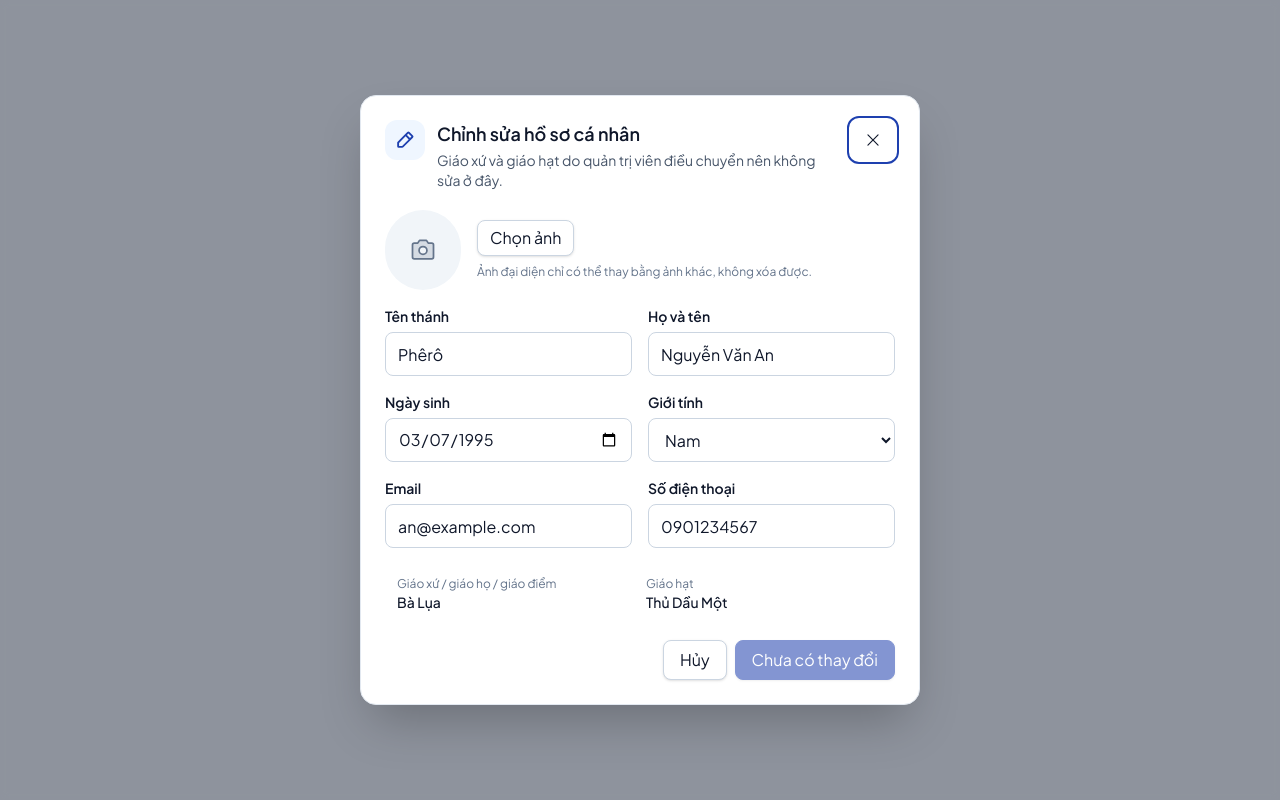
Test case: EditProfileDialog › shows the server message when the phone is already used
Replace the text in the field labelled "Số điện thoại" with "0907654321" at (772, 526), box [648,504,895,548]
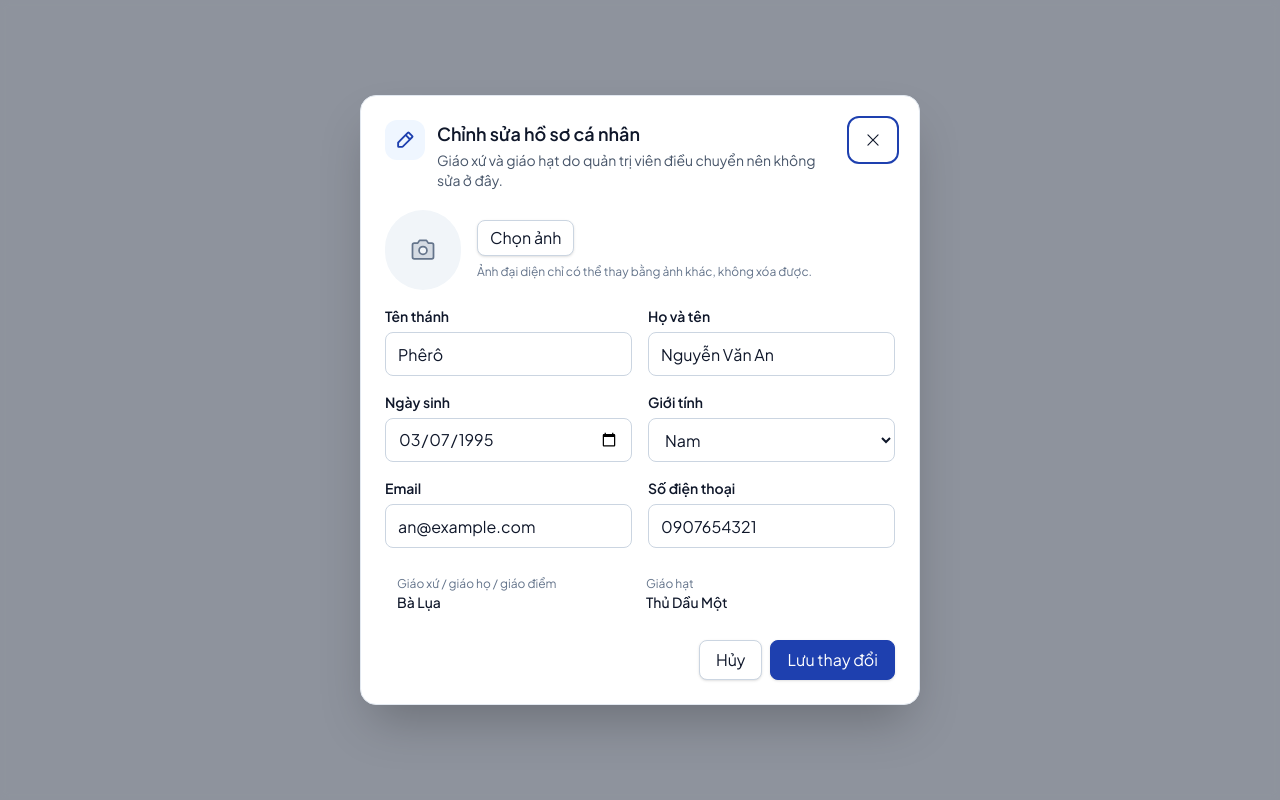
Click the button "Lưu thay đổi" at (833, 660), box [770,640,895,680]
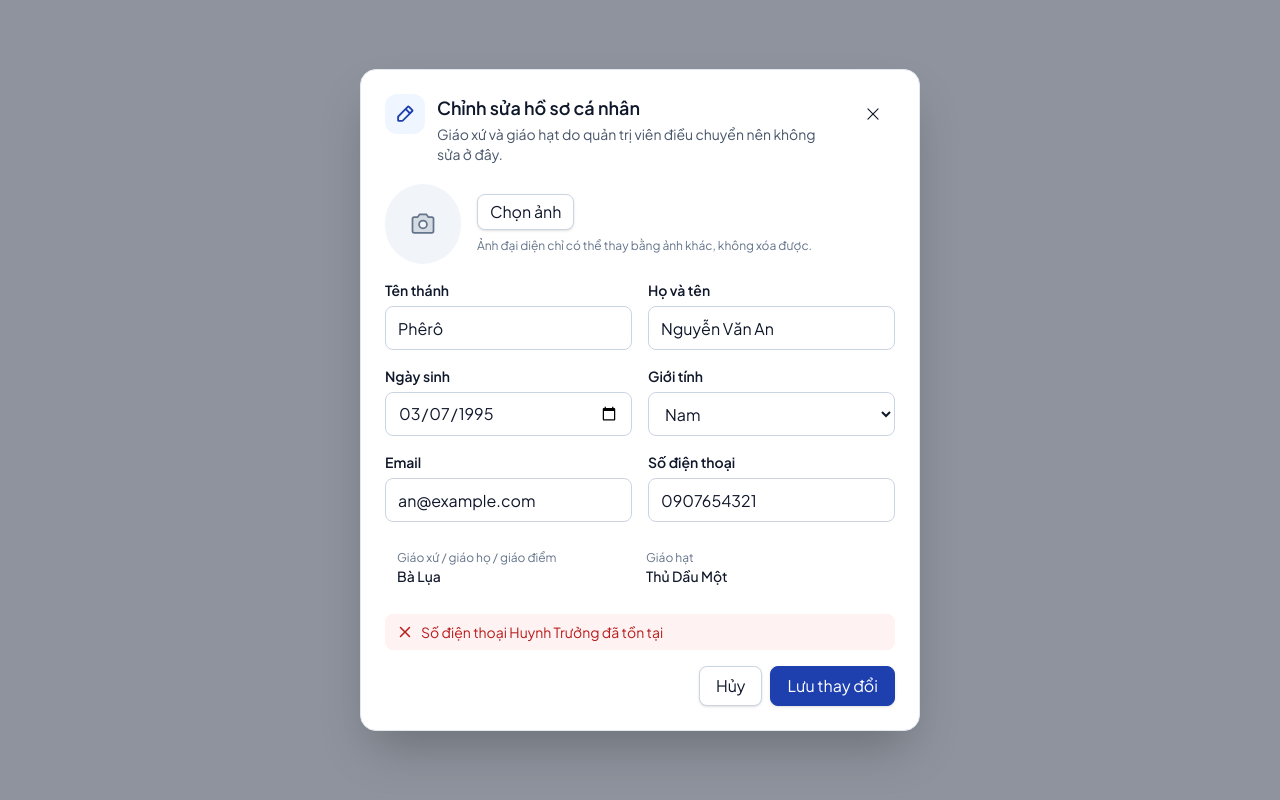
Expected: the text "Số điện thoại Huynh Trưởng đã tồn tại" is shown, [421,622,663,642]
